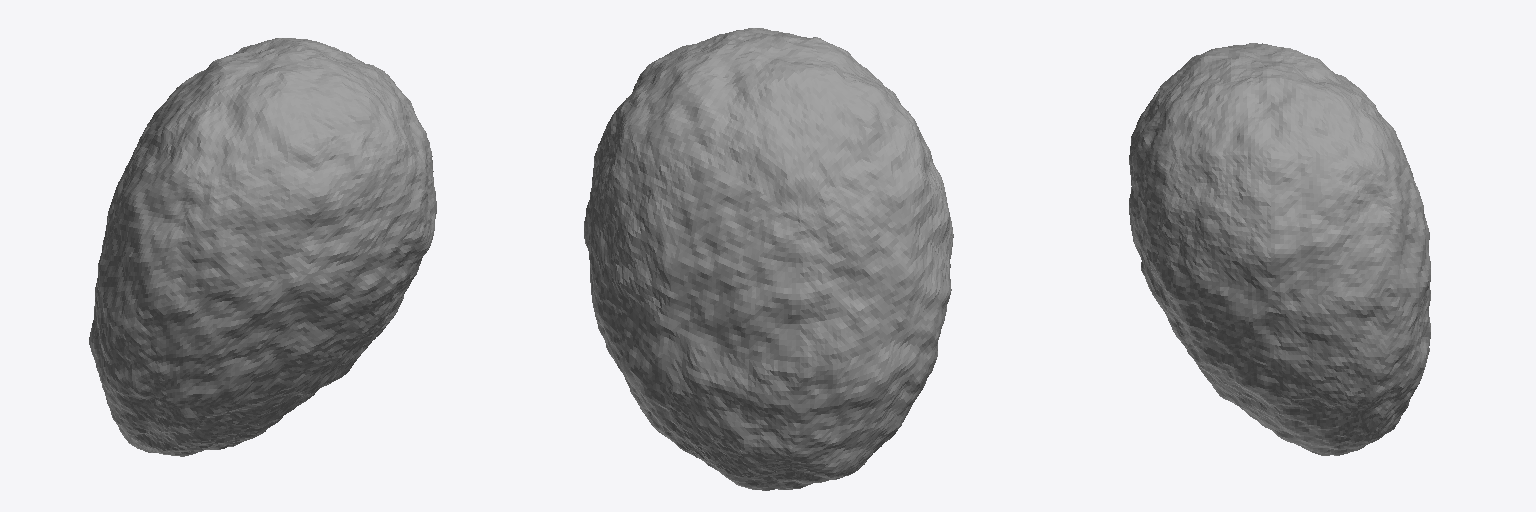
Rendered from astroid1.obj.
The picture shows the model from 3 angles: view 1: azimuth 30°, elevation 25°; view 2: azimuth 150°, elevation 25°; view 3: azimuth 270°, elevation 25°; orthographic projection.
Parts seen in each view (by area): view 1: Cube; view 2: Cube; view 3: Cube.
Part boxes in pixels (x1,y1,x2,y2): Cube: (89, 38, 436, 456); Cube: (584, 28, 953, 490); Cube: (1129, 43, 1430, 455).
Size of the model in its own units: 1.78 by 2.13 by 1.46.